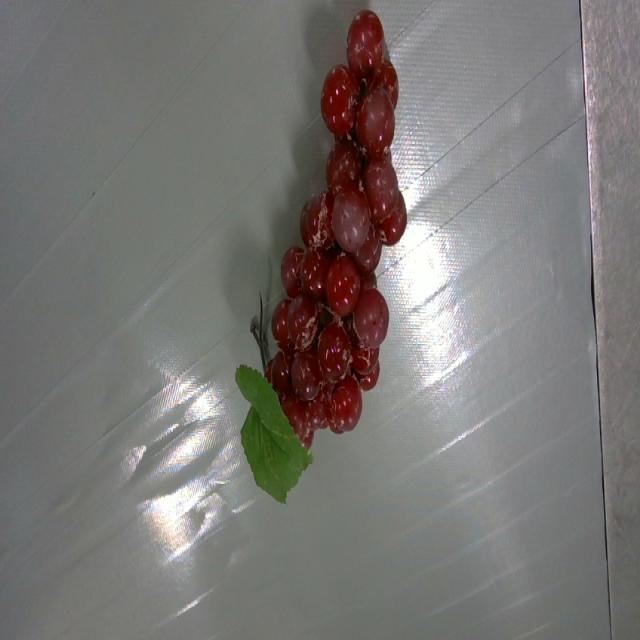grape: (236, 11, 408, 500)
